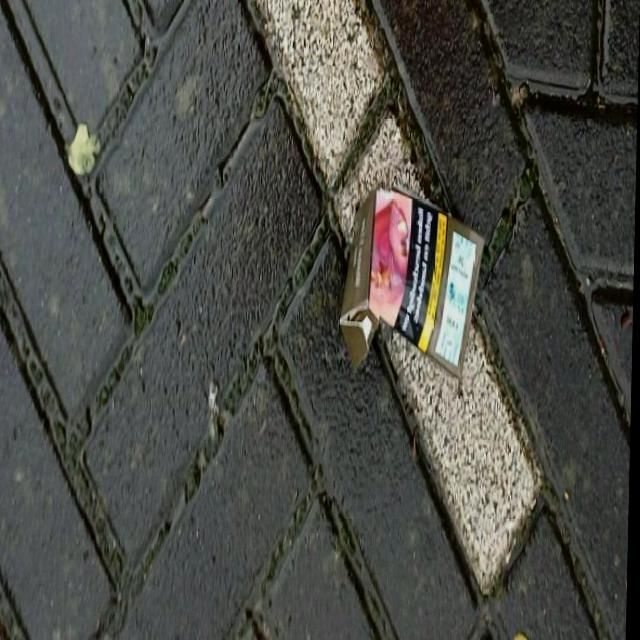Paper: (338, 183, 489, 403)
